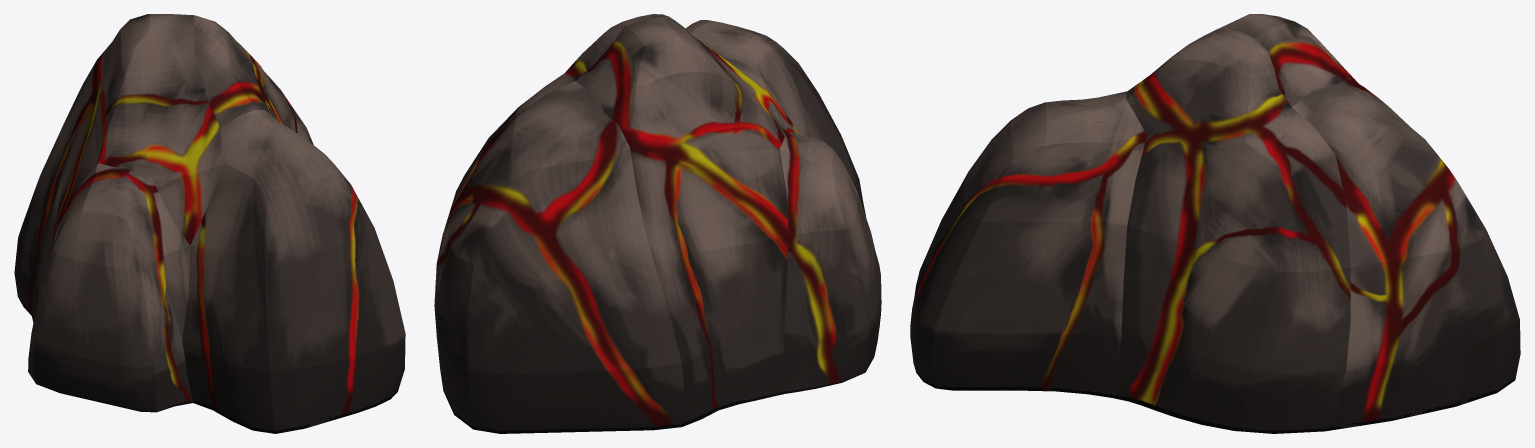
Rendered from Props_LavaPit 1.FBX.
The picture shows the model from 3 angles, left to right: view 1: azimuth 30°, elevation 25°; view 2: azimuth 150°, elevation 25°; view 3: azimuth 270°, elevation 25°; orthographic projection. The views are drawn at different scales.
Visible parts, largest first — view 1: Lava pit001; view 2: Lava pit001; view 3: Lava pit001.
Boxes of the visible parts, box(x1,y1,x2,y2) form: Lava pit001: box(14, 14, 405, 433); Lava pit001: box(434, 14, 881, 433); Lava pit001: box(910, 14, 1520, 433).
Bounding box in the file's own units: 88.66 × 76.42 × 125.
